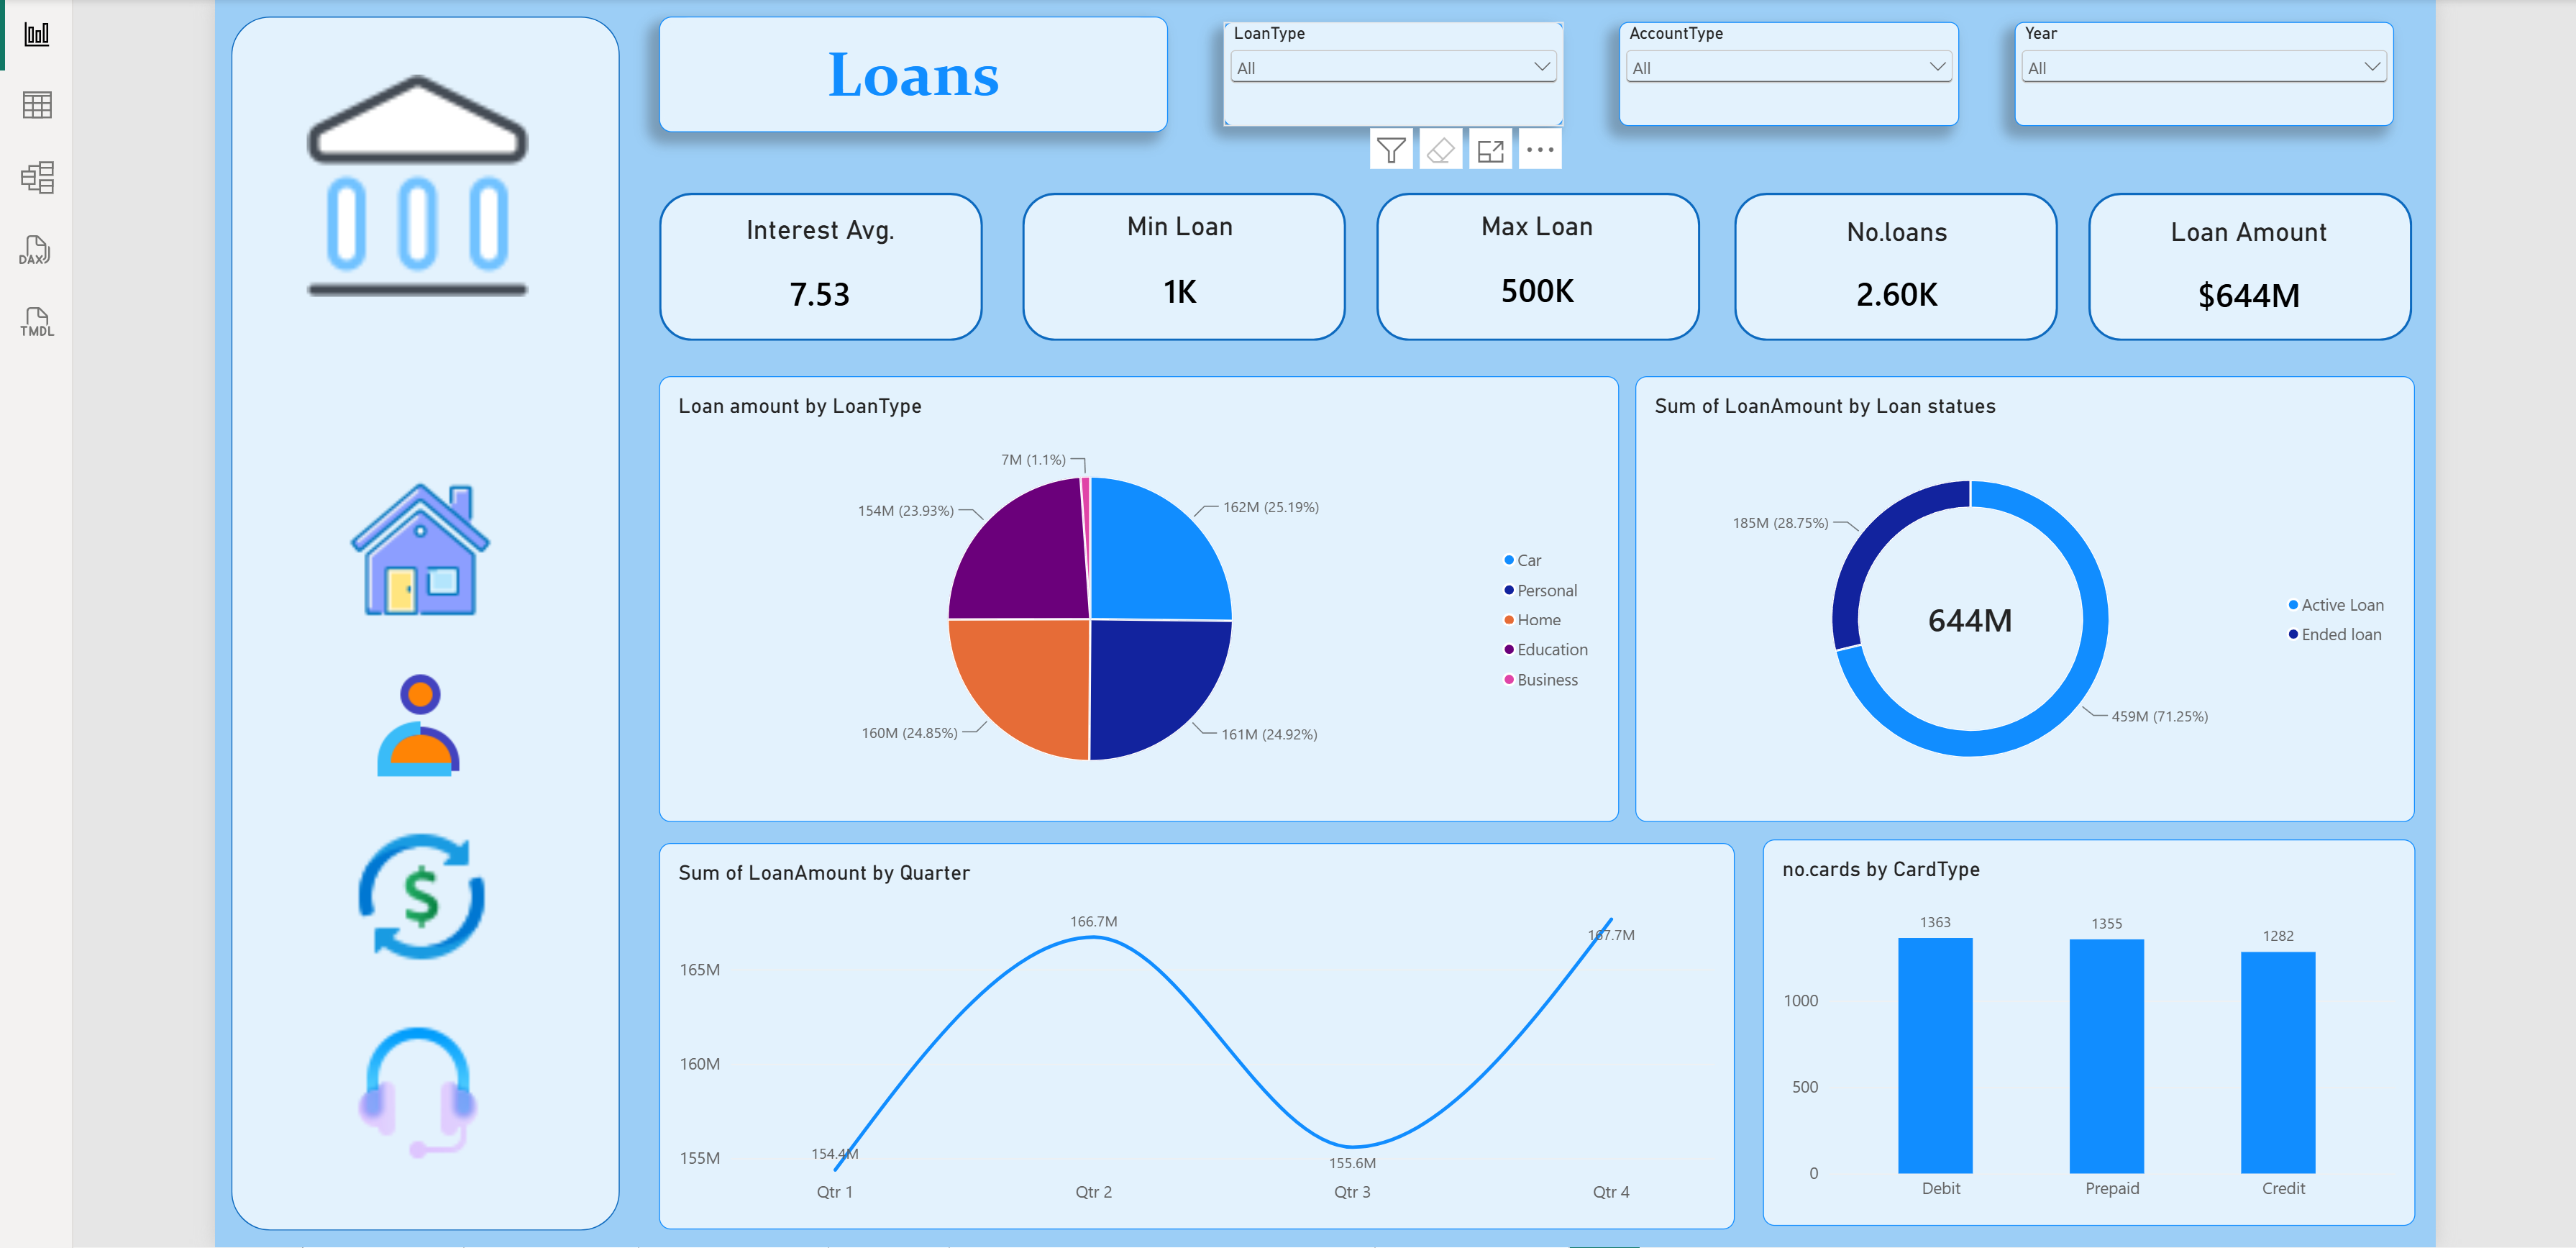

The dashboard page shown, as its layout file describes it:
{"tool":"powerbi","page":{"name":"Loan","canvas":[1920,1080],"ordinal":3},"visuals":[{"type":"shape","box":[1620,168,280,128],"z":0},{"type":"shape","box":[1314,168,280,128],"z":1000},{"type":"shape","box":[1004,168,280,128],"z":2000},{"type":"shape","box":[698,168,280,128],"z":3000},{"type":"shape","box":[384,168,280,128],"z":4000},{"type":"shape","box":[14,16,336,1050],"z":5000},{"type":"cardVisual","title":"Loan Amount","fields":{"Data":["Customers calculations.Loan amount"]},"box":[1648,188,222,92],"z":6000},{"type":"cardVisual","title":"No.loans","fields":{"Data":["customer calculations.No.loans"]},"box":[1352,188,204,90],"z":7000},{"type":"cardVisual","title":"Max Loan","fields":{"Data":["Loan Calculations.Max Loan"]},"box":[1036,184,216,92],"z":8000},{"type":"cardVisual","title":"Min Loan","fields":{"Data":["Loan Calculations.Min loan"]},"box":[728,184,214,94],"z":9000},{"type":"cardVisual","title":"Interest Avg.","fields":{"Data":["Loan Calculations.AVG interest"]},"box":[424,186,198,92],"z":10000},{"type":"pieChart","fields":{"Category":["Loans.LoanType"],"Y":["Overview calculations.Loan amount"]},"box":[384,326,830,386],"z":11000},{"type":"donutChart","fields":{"Category":["Loans.Loan statues"],"Y":["Sum(Loans.LoanAmount)"]},"box":[1228,326,674,386],"z":12000},{"type":"lineChart","fields":{"Category":["calender.Date.Variation.Date Hierarchy.Year","calender.Date.Variation.Date Hierarchy.Quarter","calender.Date.Variation.Date Hierarchy.Month","calender.Date.Variation.Date Hierarchy.Day"],"Y":["Sum(Loans.LoanAmount)"]},"box":[384,730,930,334],"z":13000},{"type":"columnChart","fields":{"Category":["Cards.CardType"],"Y":["Cards.no.cards"]},"box":[1338,728,564,334],"z":14000},{"type":"image","box":[80,64,192,196],"z":15000},{"type":"image","box":[74,408,206,134],"z":16000},{"type":"image","box":[92,712,174,130],"z":17000},{"type":"image","box":[66,572,222,116],"z":18000},{"type":"image","box":[116,888,118,118],"z":19000},{"type":"slicer","fields":{"Values":["calender.Year"]},"box":[1556,20,328,90],"z":19001},{"type":"slicer","fields":{"Values":["Accounts.AccountType"]},"box":[1214,20,294,90],"z":19002},{"type":"slicer","fields":{"Values":["Loans.LoanType"]},"box":[872,20,294,90],"z":19003},{"type":"shape","title":"Over","box":[384,16,440,100],"z":19004}]}

Visuals, with their boxes on the page's 1920x1080 design canvas (x1, y1, x2, y2). These are canvas units, not pixel positions in the 2576x1248 screenshot, which may show the page scaled, cropped or inside an application window:
shape: [left=1620, top=168, right=1900, bottom=296]
shape: [left=1314, top=168, right=1594, bottom=296]
shape: [left=1004, top=168, right=1284, bottom=296]
shape: [left=698, top=168, right=978, bottom=296]
shape: [left=384, top=168, right=664, bottom=296]
shape: [left=14, top=16, right=350, bottom=1066]
"Loan Amount" cardVisual: [left=1648, top=188, right=1870, bottom=280]
"No.loans" cardVisual: [left=1352, top=188, right=1556, bottom=278]
"Max Loan" cardVisual: [left=1036, top=184, right=1252, bottom=276]
"Min Loan" cardVisual: [left=728, top=184, right=942, bottom=278]
"Interest Avg." cardVisual: [left=424, top=186, right=622, bottom=278]
pieChart - Loans.LoanType x Overview calculations.Loan amount: [left=384, top=326, right=1214, bottom=712]
donutChart - Loans.Loan statues x Sum(Loans.LoanAmount): [left=1228, top=326, right=1902, bottom=712]
lineChart - calender.Date.Variation.Date Hierarchy.Year x calender.Date.Variation.Date Hierarchy.Quarter: [left=384, top=730, right=1314, bottom=1064]
columnChart - Cards.CardType x Cards.no.cards: [left=1338, top=728, right=1902, bottom=1062]
image: [left=80, top=64, right=272, bottom=260]
image: [left=74, top=408, right=280, bottom=542]
image: [left=92, top=712, right=266, bottom=842]
image: [left=66, top=572, right=288, bottom=688]
image: [left=116, top=888, right=234, bottom=1006]
slicer - calender.Year: [left=1556, top=20, right=1884, bottom=110]
slicer - Accounts.AccountType: [left=1214, top=20, right=1508, bottom=110]
slicer - Loans.LoanType: [left=872, top=20, right=1166, bottom=110]
"Over" shape: [left=384, top=16, right=824, bottom=116]
